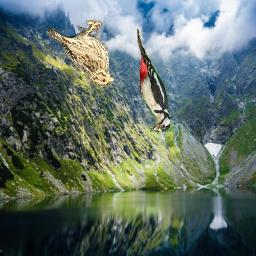Sparrow: (46, 21, 114, 88)
Woodpecker: (138, 28, 171, 133)
